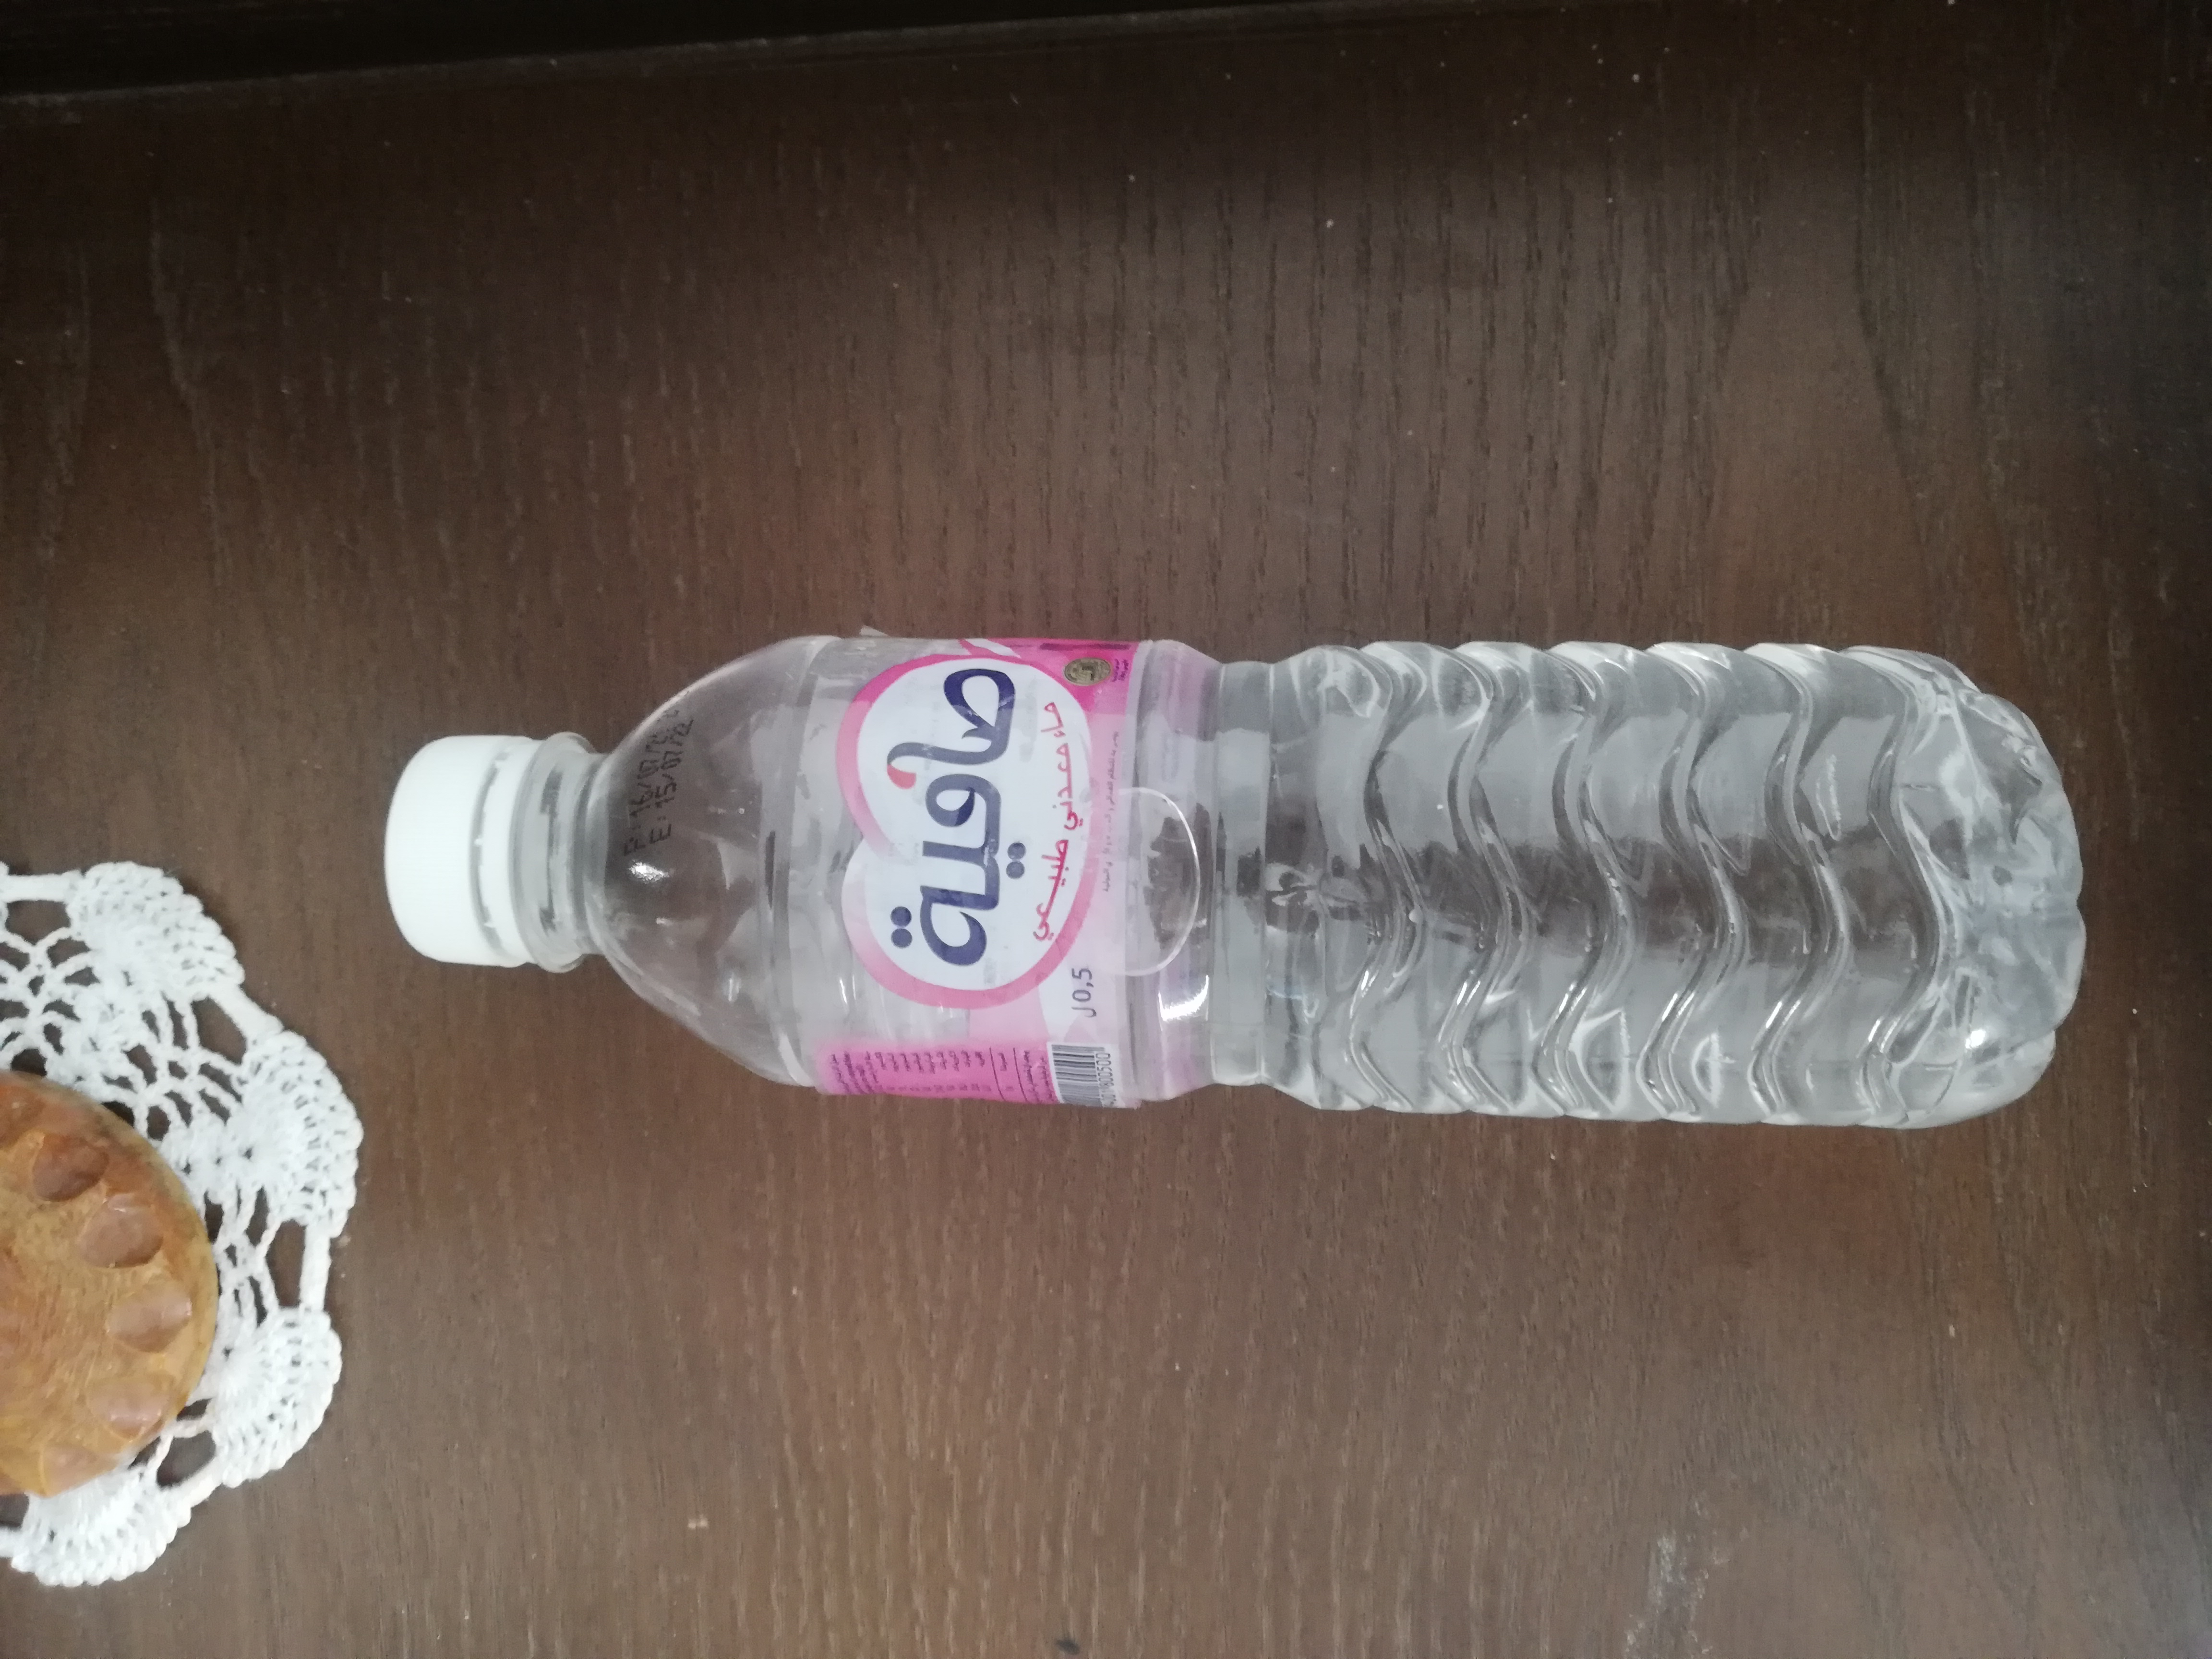Eau safia: (378, 638, 2078, 1138)
